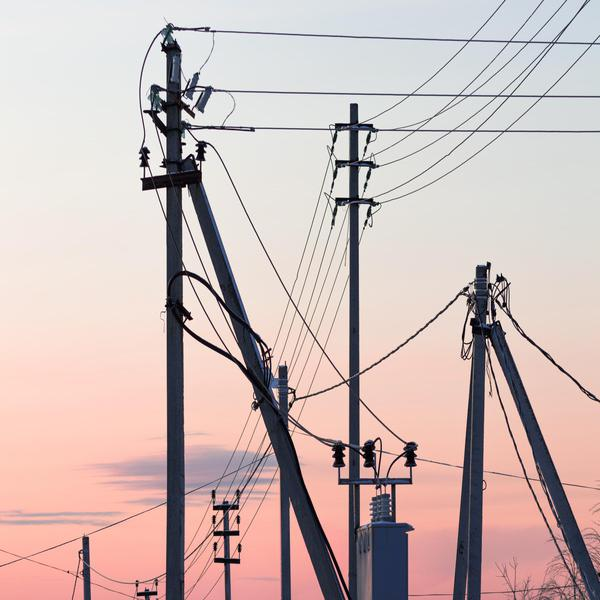utility_pole: (128, 14, 253, 213), (313, 97, 395, 242), (449, 253, 522, 380), (203, 479, 250, 583), (64, 527, 108, 600)
